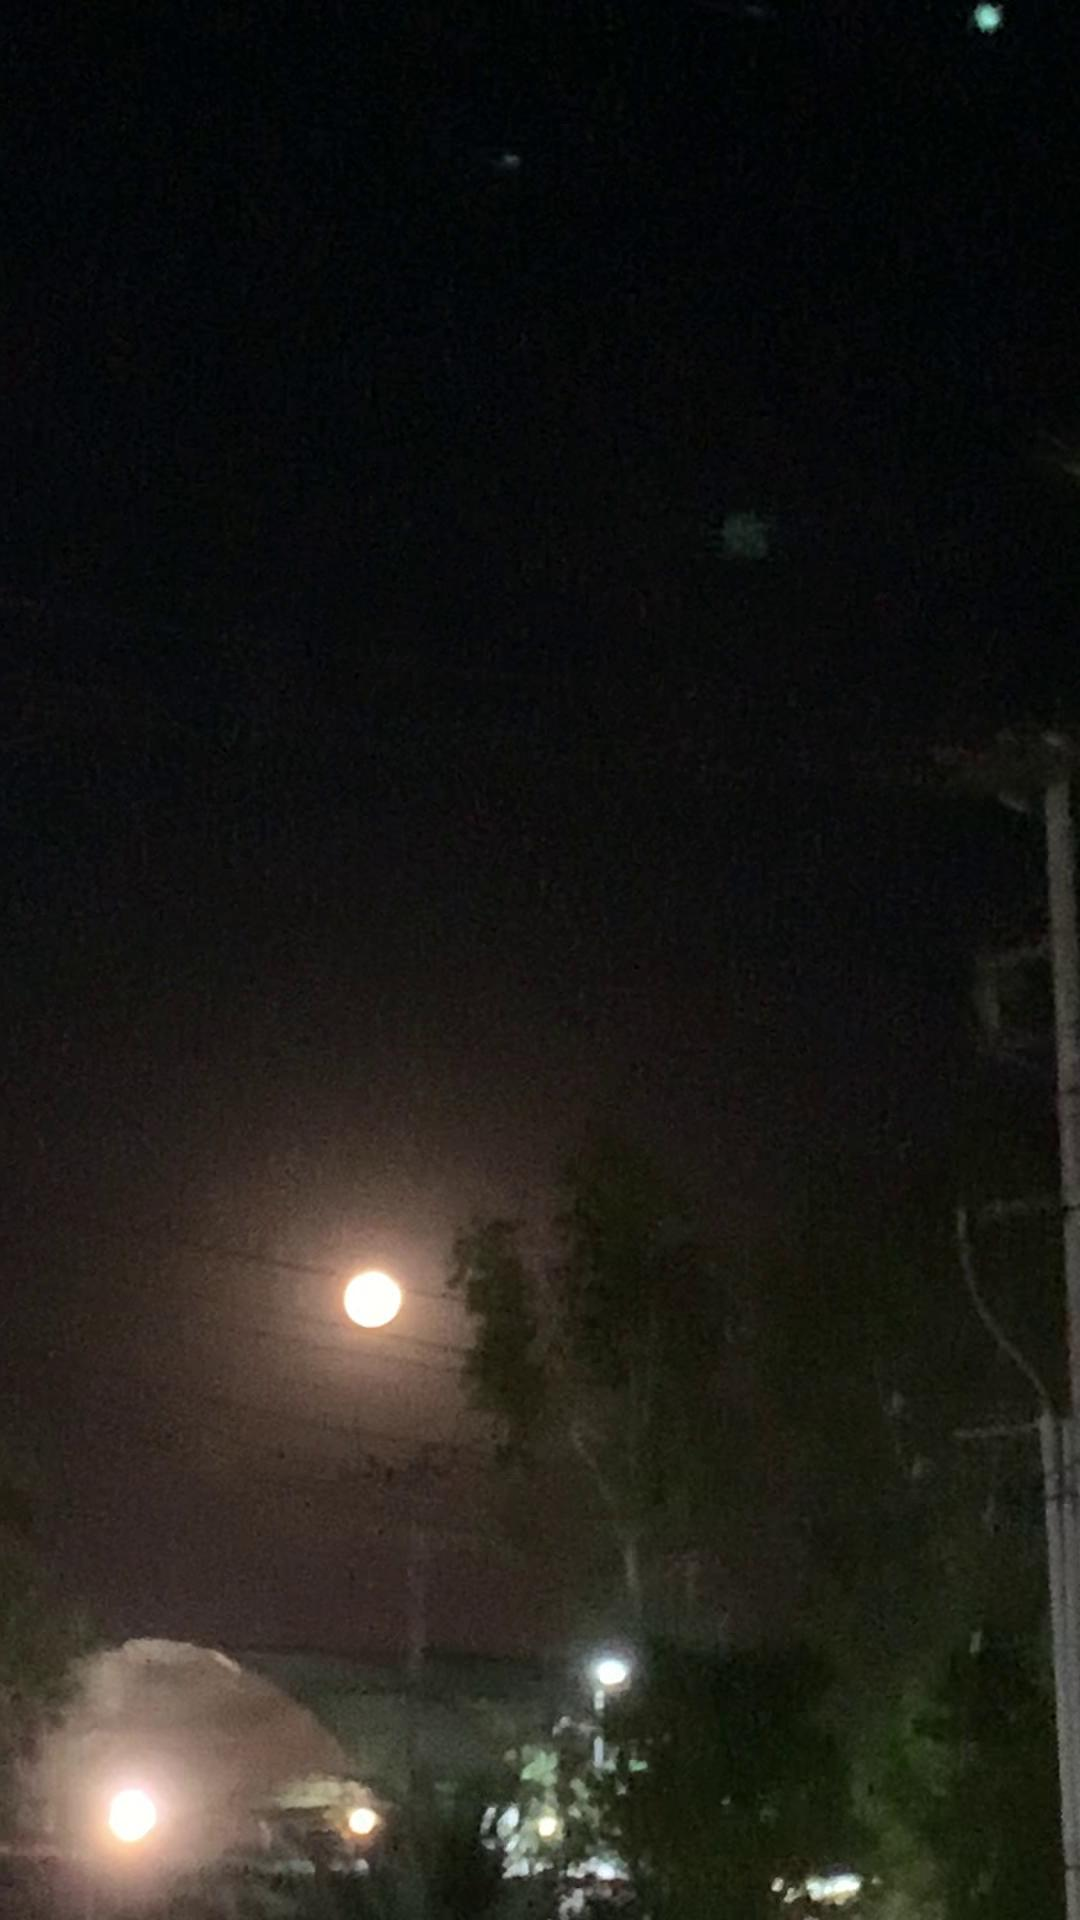moon: (331, 1258, 402, 1331)
